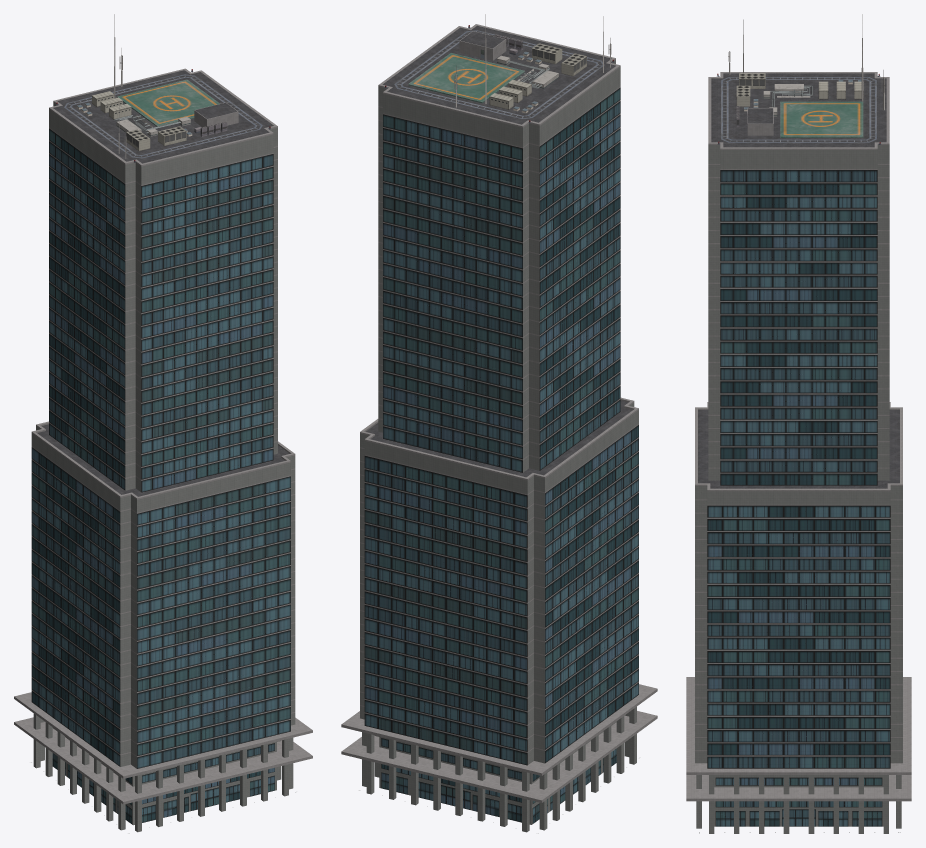
The model's file is building_Ea.FBX.
3 renders of one model, left to right at view 1: azimuth 30°, elevation 25°; view 2: azimuth 150°, elevation 25°; view 3: azimuth 270°, elevation 25°, orthographic. The views are drawn at different scales.
Visible parts, largest first — view 1: building_Ea; view 2: building_Ea; view 3: building_Ea.
Part boxes in pixels (x1,y1,x2,y2): building_Ea: [14, 14, 312, 833]; building_Ea: [341, 14, 657, 833]; building_Ea: [686, 14, 911, 833].
Size of what is drawn, in the model's own units: 1918 by 1918 by 7211.
